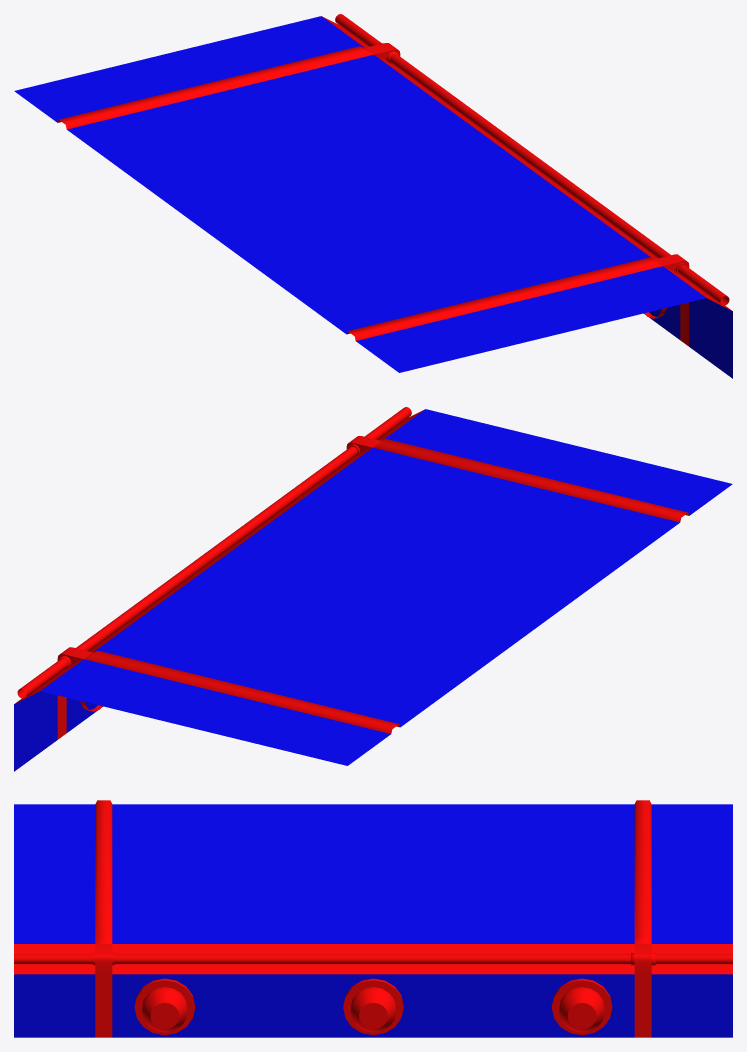
The model's file is 4x2_var.FBX.
The picture shows the model from 3 angles, top to bottom: view 1: azimuth 30°, elevation 25°; view 2: azimuth 150°, elevation 25°; view 3: azimuth 270°, elevation 25°; orthographic projection. The views are drawn at different scales.
Parts seen in each view (by area): view 1: 4x2_; view 2: 4x2_; view 3: 4x2_.
Boxes of the visible parts, box(x1,y1,x2,y2) form: 4x2_: box(14, 14, 732, 378); 4x2_: box(14, 407, 732, 771); 4x2_: box(14, 800, 732, 1037).
Bounding box in the file's own units: 213 × 52.31 × 400.
